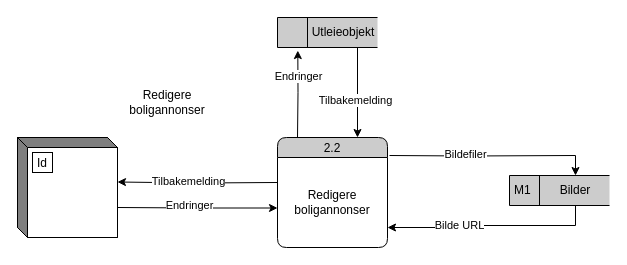
Some shapes in this 627 by 265 pixel diagram are drawn without their labels. The box of each missing label's shape, as (x1, y1, x2, y2) in pixels:
D3: (276, 16, 378, 48)
Utleier: (16, 136, 118, 238)
